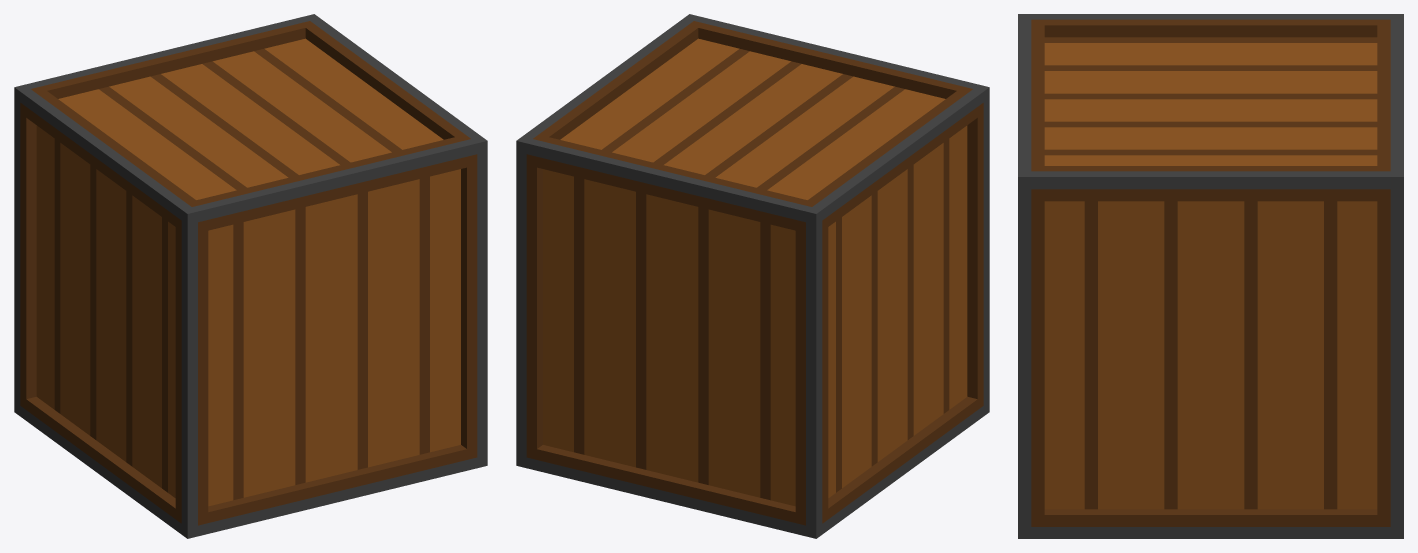
The model's file is woodcrate2.obj.
The picture shows the model from 3 angles, left to right: view 1: azimuth 30°, elevation 25°; view 2: azimuth 150°, elevation 25°; view 3: azimuth 270°, elevation 25°; orthographic projection. The views are drawn at different scales.
Visible parts, largest first — view 1: woodcrate2; view 2: woodcrate2; view 3: woodcrate2.
Part boxes in pixels (x1,y1,x2,y2): woodcrate2: (14,14,487,538); woodcrate2: (516,14,989,538); woodcrate2: (1018,14,1403,538).
Bounding box in the file's own units: 29 × 30 × 29.
Materials: 1 (1 with a texture image).
